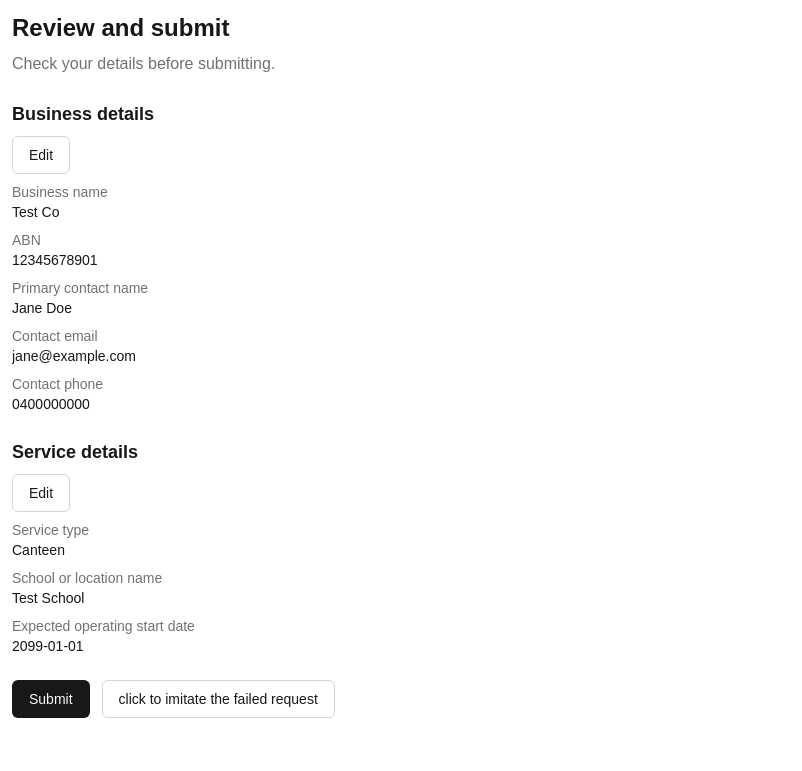
Test: ReviewPage submission feedback › shows failure feedback with a retry option and a contact number when submission rejects
Step 1. Click the button "Submit" → point(51, 699), box [12, 680, 90, 718]
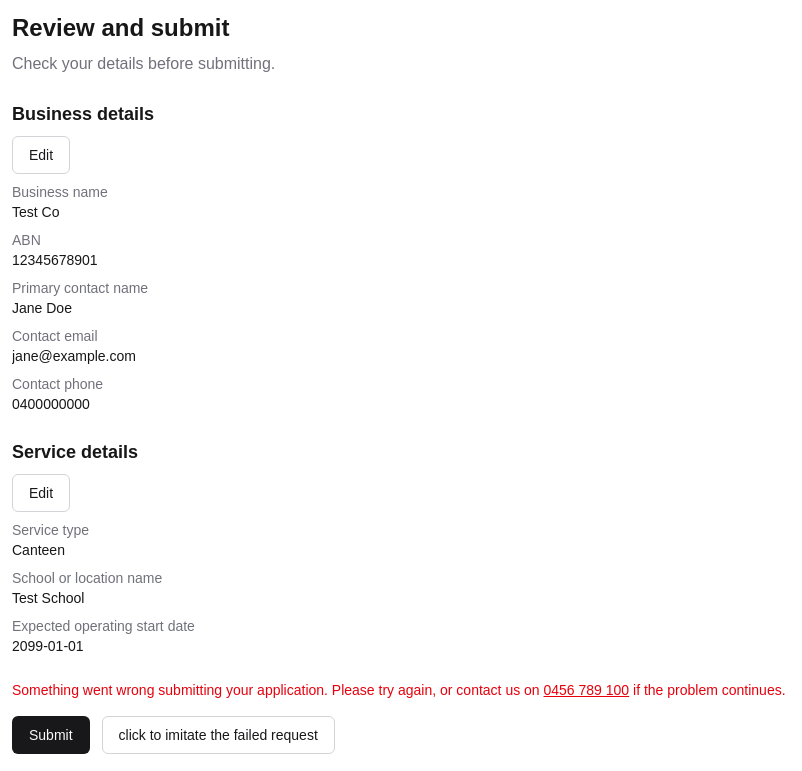
Expected: the button "Submit" is enabled, [12, 716, 90, 754]
Result: the message shows "Something went wrong" at [12, 682, 540, 698]
